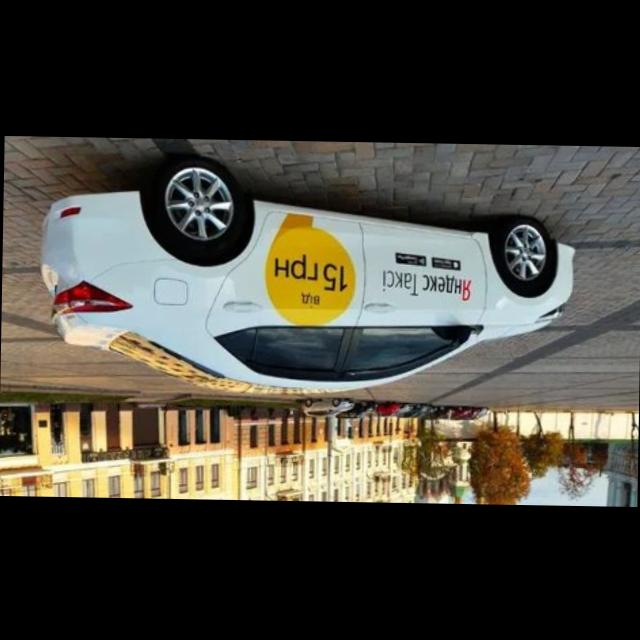taxi: (39, 154, 578, 401)
